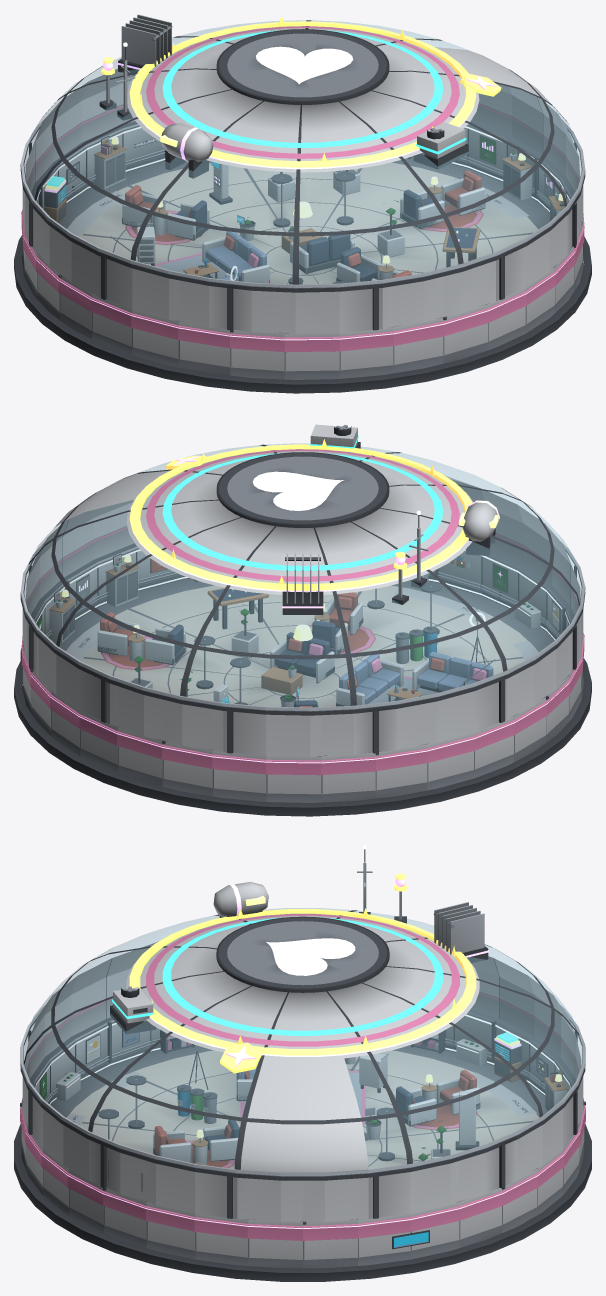
File: lounge_m.glb
3 renders of one model, top to bottom at view 1: azimuth 30°, elevation 25°; view 2: azimuth 150°, elevation 25°; view 3: azimuth 270°, elevation 25°, orthographic.
Parts seen in each view (by area): view 1: Roof, Base, Interior, L5, L3, L4, Tall_01, Wall_21, Wall_20, Upper_21, Upper_20, Wall_22 (+39 smaller); view 2: Roof, Base, Interior, L5, L3, L4, Wall_10, Wall_11, Upper_10, Upper_11, Wall_09, Upper_09 (+38 smaller); view 3: Roof, Base, Interior, L5, L3, L4, Tall_01, Wall_00, Wall_31, Upper_00, Upper_31, Wall_30 (+41 smaller).
Part boxes in pixels (<box>): Roof: <box>23,20,582,288</box>; Base: <box>14,156,591,393</box>; Interior: <box>67,162,528,284</box>; L5: <box>99,16,501,167</box>; L3: <box>162,30,468,169</box>; L4: <box>117,14,472,178</box>; Tall_01: <box>122,185,209,244</box>; Wall_21: <box>284,333,339,379</box>; Wall_20: <box>230,329,284,379</box>; Upper_21: <box>284,288,339,333</box>; Upper_20: <box>229,284,284,332</box>; Wall_22: <box>339,327,393,378</box>; Roof: <box>23,443,582,711</box>; Base: <box>14,578,591,816</box>; Interior: <box>66,588,538,707</box>; L5: <box>129,439,472,604</box>; L3: <box>162,424,443,570</box>; L4: <box>133,500,499,614</box>; Wall_10: <box>266,756,321,802</box>; Wall_11: <box>321,752,375,802</box>; Upper_10: <box>266,711,321,756</box>; Upper_11: <box>321,707,376,755</box>; Wall_09: <box>212,750,266,801</box>; Upper_09: <box>212,705,266,755</box>; Roof: <box>23,908,582,1176</box>; Base: <box>14,1045,591,1281</box>; Interior: <box>68,1053,536,1168</box>; L5: <box>129,873,476,1073</box>; L3: <box>110,918,443,1035</box>; L4: <box>149,881,489,1056</box>; Tall_01: <box>393,1070,480,1130</box>; Wall_00: <box>303,1219,358,1268</box>; Wall_31: <box>247,1219,302,1268</box>; Upper_00: <box>303,1174,357,1221</box>; Upper_31: <box>248,1174,302,1221</box>; Wall_30: <box>194,1213,247,1265</box>.
Bounding box in the file's own units: 14.75 × 6.82 × 14.75.
